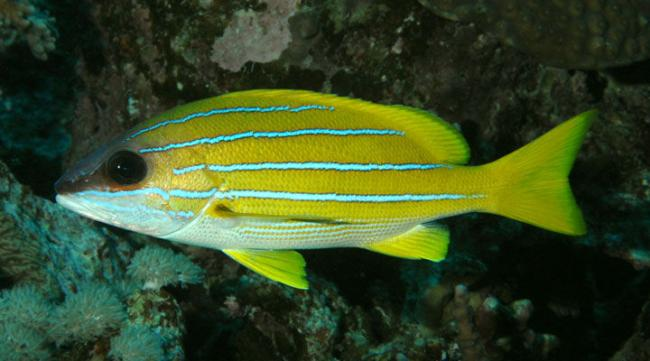fish: (54, 88, 598, 291)
